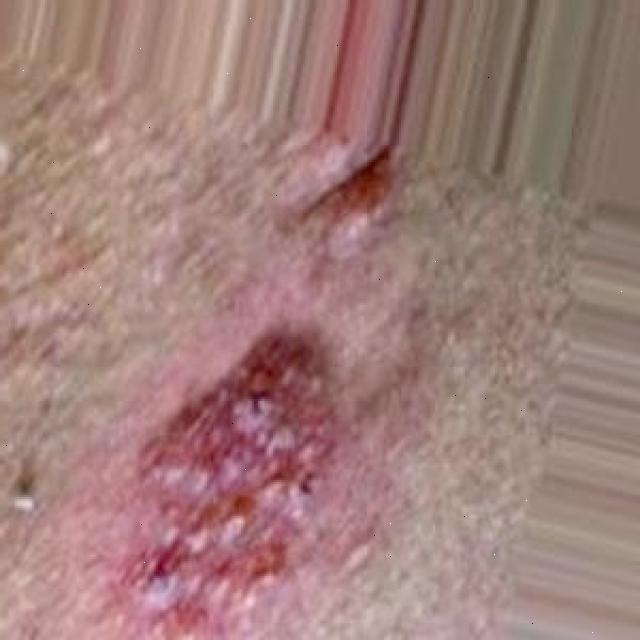Shingles: (129, 330, 332, 637)
